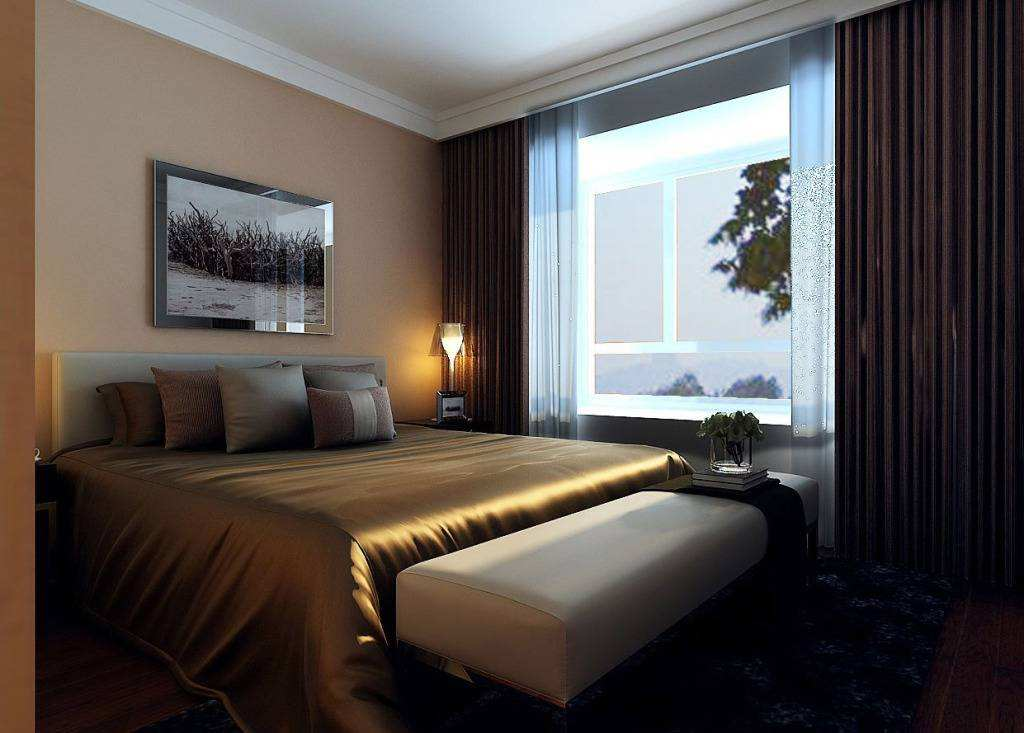床: (57, 426, 774, 720)
枕头: (108, 354, 393, 451)
灯: (428, 321, 470, 412)
